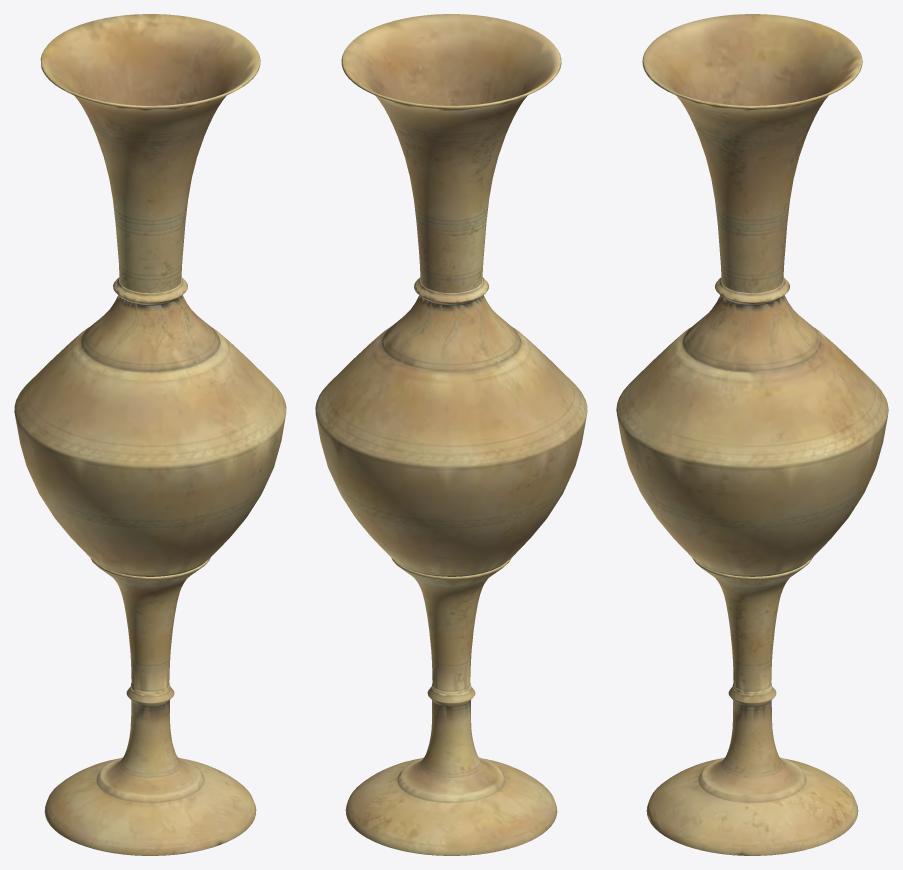
Rendered from brass_vase_01.glb.
3 views of the same model, side by side, from view 1: azimuth 30°, elevation 25°; view 2: azimuth 150°, elevation 25°; view 3: azimuth 270°, elevation 25° (orthographic).
Visible parts, largest first — view 1: brass_vase_01; view 2: brass_vase_01; view 3: brass_vase_01.
Boxes of the visible parts, box(x1,y1,x2,y2) form: brass_vase_01: box(14, 14, 286, 855); brass_vase_01: box(315, 14, 587, 855); brass_vase_01: box(616, 14, 888, 855).
Bounding box in the file's own units: 0.2273 × 0.6925 × 0.2273.
Materials: 1 (1 with a texture image).
